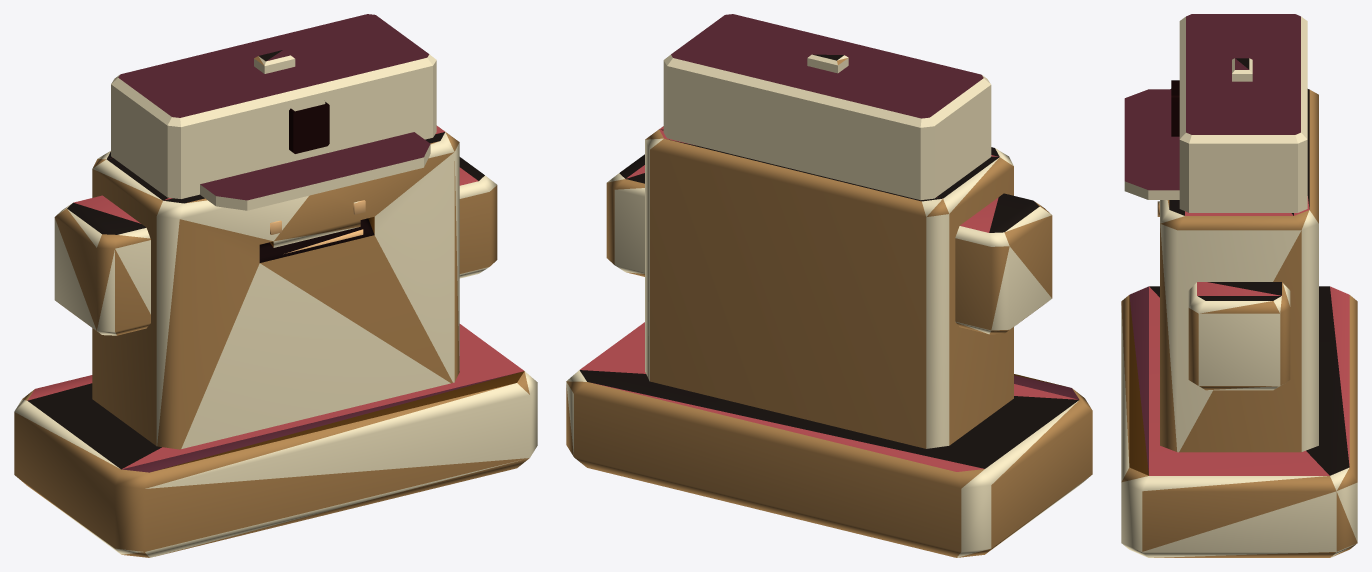
3 renders of one model, left to right at view 1: azimuth 30°, elevation 25°; view 2: azimuth 150°, elevation 25°; view 3: azimuth 270°, elevation 25°, orthographic. The views are drawn at different scales.
Parts seen in each view (by area): view 1: pq0132bc, pq0132bc_obj; view 2: pq0132bc, pq0132bc_obj; view 3: pq0132bc, pq0132bc_obj.
Boxes of the visible parts, x1,y1,x2,y2 form: pq0132bc: (14,125,537,557); pq0132bc_obj: (111,14,436,210); pq0132bc: (566,126,1092,557); pq0132bc_obj: (663,14,991,200); pq0132bc: (1121,89,1357,557); pq0132bc_obj: (1124,14,1307,212).
Size of the model in its own units: 1.83 by 1.72 by 0.9217.
